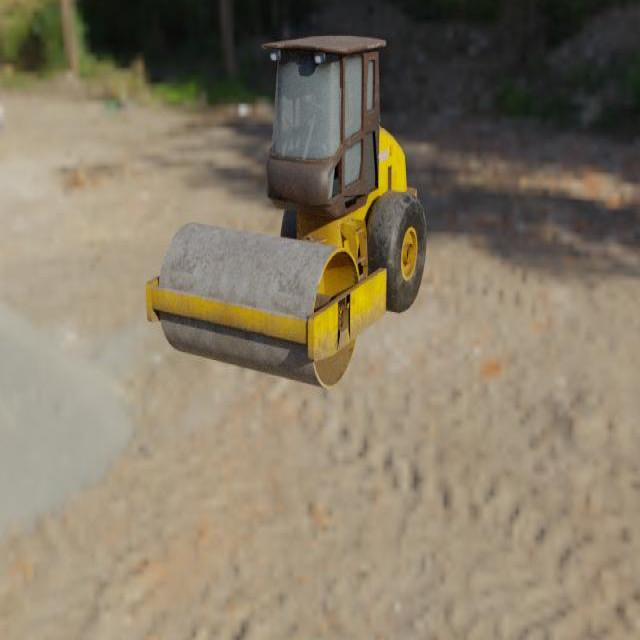Roller: (145, 35, 427, 389)
